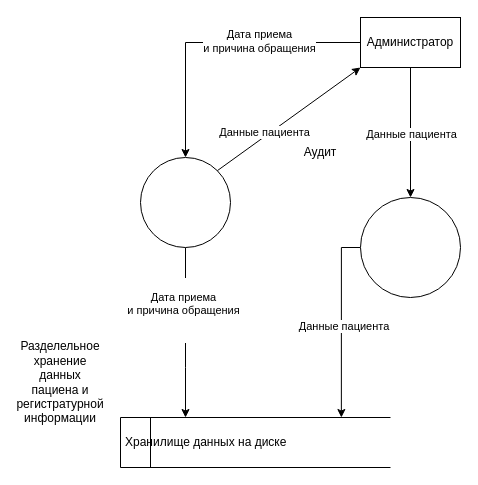
The diagram is 478 pixels wide and 485 high, and some of its shapes have lost their labels. The shapes that lost their labels are listed below. From the top down, each one's centre as x and y in pixels, then its label:
(185,202): Запись пациента
(410,247): Ввод данных пециента
